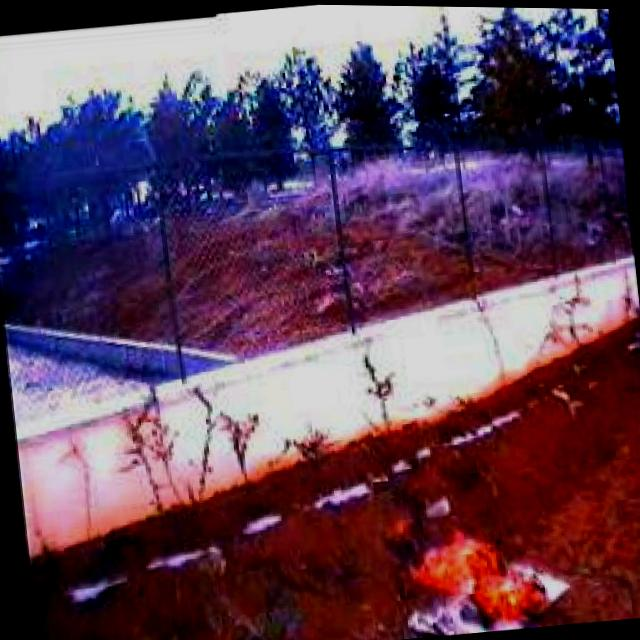helmet: (384, 500, 556, 633)
